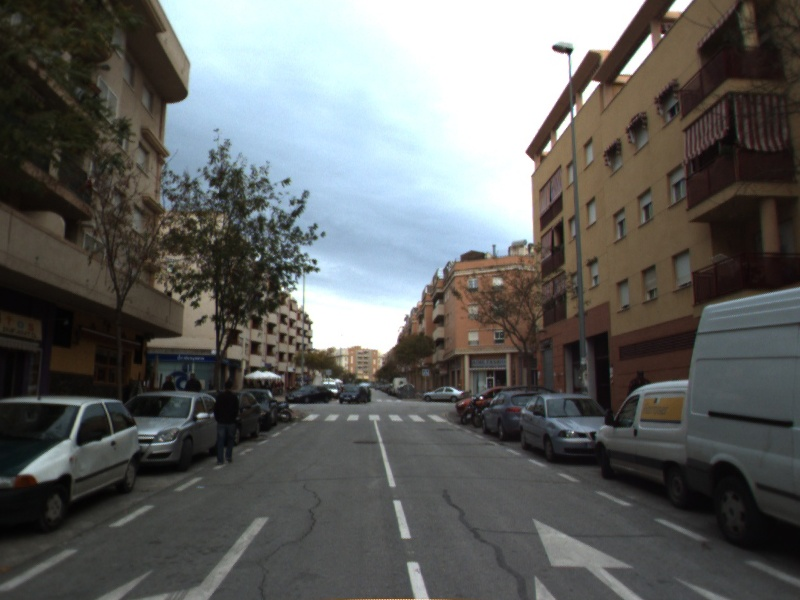STRAIGHT: (530, 513, 649, 600)
